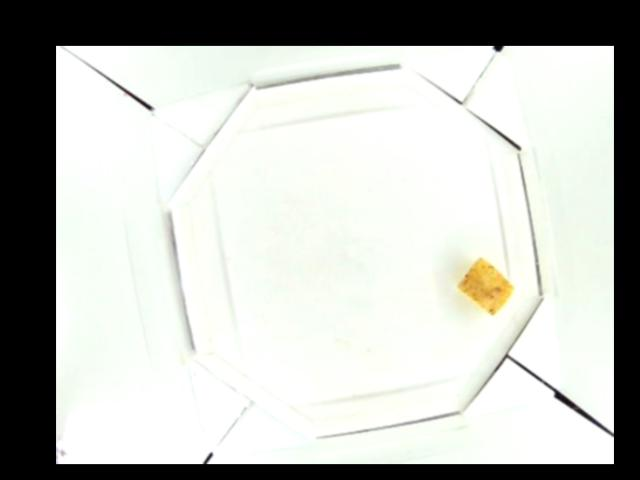Potato: (458, 256, 513, 316)
